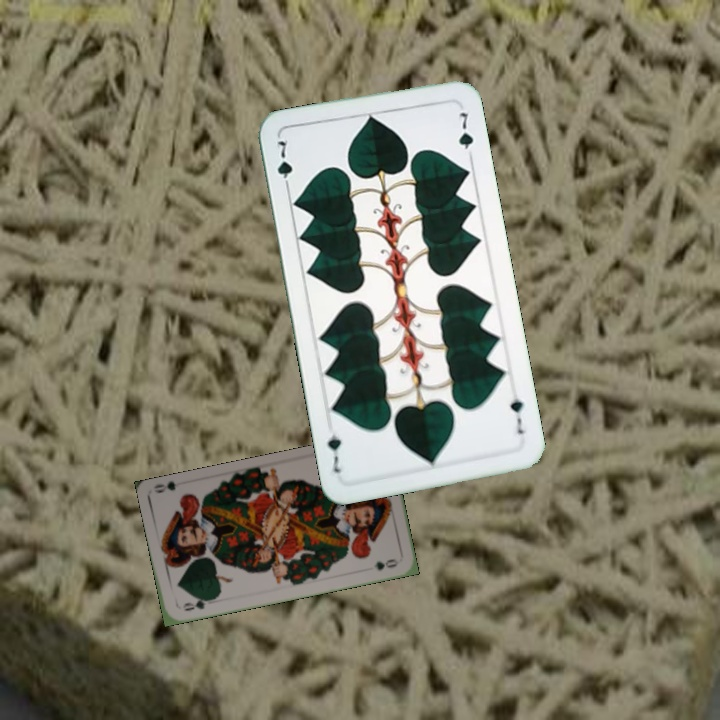G7: (273, 135, 295, 194), (506, 386, 526, 437)
GO: (179, 594, 215, 614)
